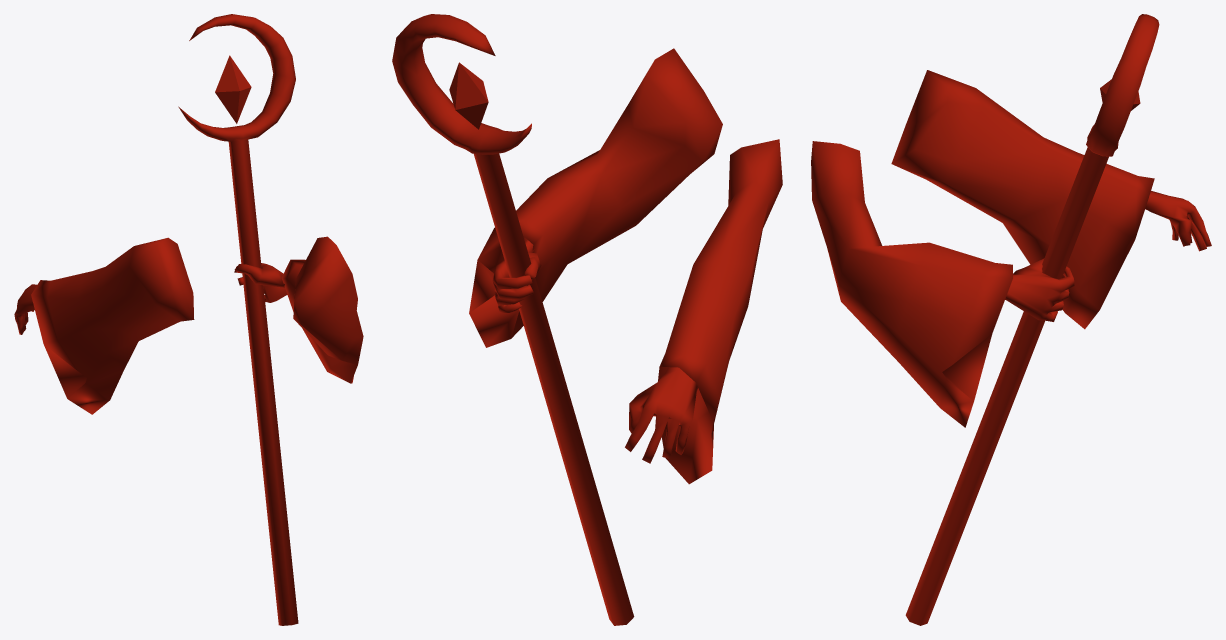
The model's file is arm_000038.obj.
3 renders of one model, left to right at view 1: azimuth 30°, elevation 25°; view 2: azimuth 150°, elevation 25°; view 3: azimuth 270°, elevation 25°, orthographic. The views are drawn at different scales.
Visible parts, largest first — view 1: LowPoly_Warlock.000_Plane.005; view 2: LowPoly_Warlock.000_Plane.005; view 3: LowPoly_Warlock.000_Plane.005.
Boxes of the visible parts, x1=… form: LowPoly_Warlock.000_Plane.005: x1=14, y1=14, x2=363, y2=625; LowPoly_Warlock.000_Plane.005: x1=392, y1=14, x2=782, y2=625; LowPoly_Warlock.000_Plane.005: x1=811, y1=14, x2=1211, y2=625.
Bounding box in the file's own units: 0.9205 × 1.81 × 1.06.
